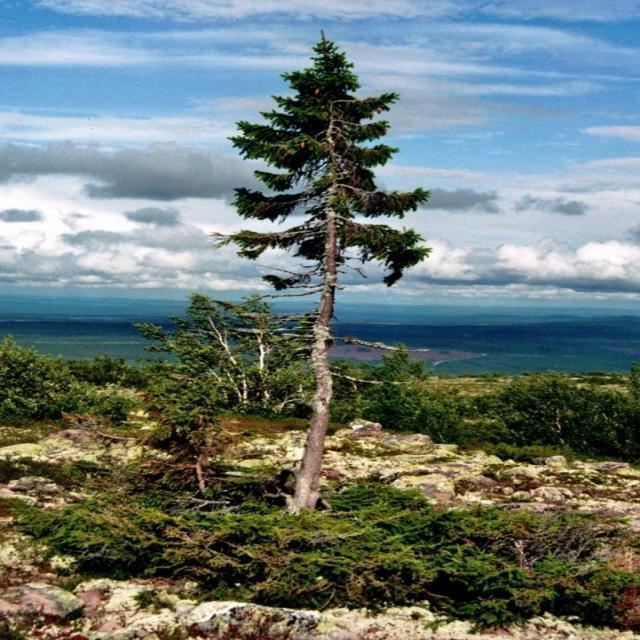tree: (234, 1, 438, 532)
